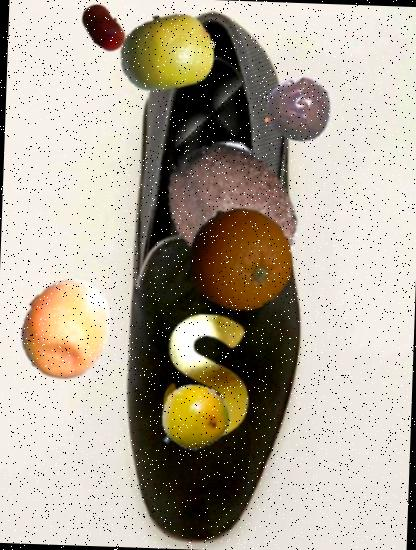Cocos: (157, 134, 309, 287)
Kumquats: (15, 276, 120, 382)
Maracuja: (158, 382, 231, 456)
Nectarine: (76, 1, 130, 55)
Orange: (185, 205, 294, 314)
Passion: (263, 75, 335, 147)
Pomelo: (117, 3, 217, 103)
